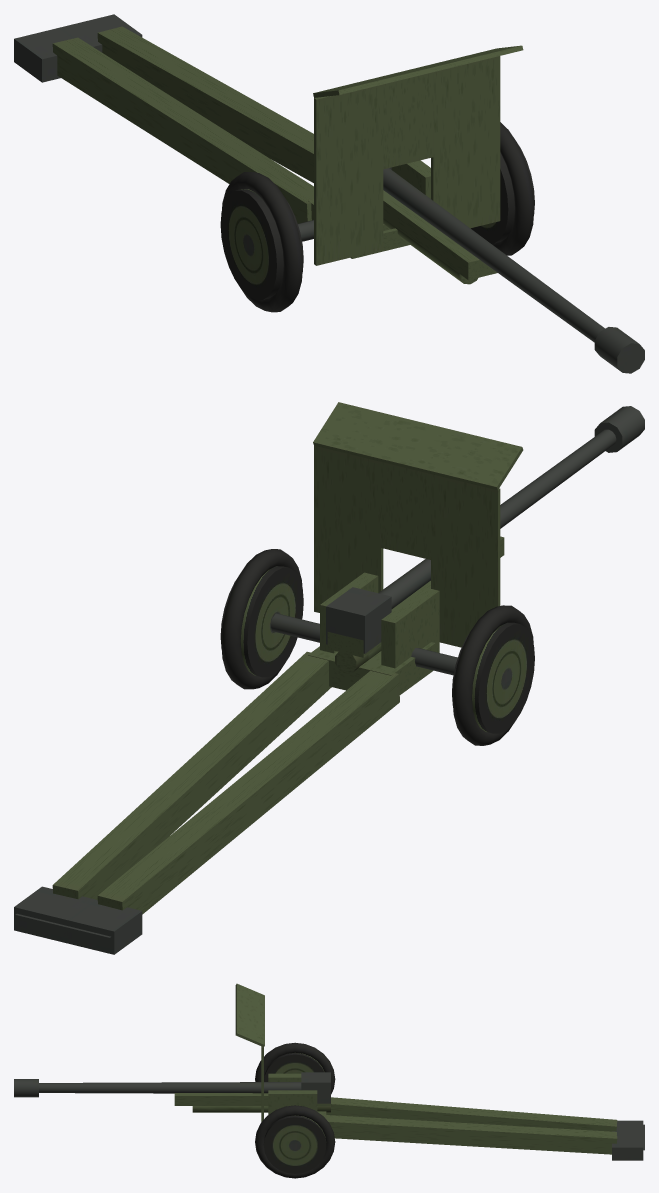
File: artillery.glb
3 views of the same model, one above another, from view 1: azimuth 30°, elevation 25°; view 2: azimuth 150°, elevation 25°; view 3: azimuth 270°, elevation 25° (orthographic). The views are drawn at different scales.
Parts seen in each view (by area): view 1: shield, trail_right, trail_left, barrel, wheels_right, wheels_left, carriage; view 2: shield, trail_right, trail_left, barrel, wheels_right, wheels_left, carriage; view 3: trail_left, barrel, trail_right, wheels_left, wheels_right, shield, carriage.
Boxes of the visible parts, box(x1,y1,x2,y2) form: shield: box(313, 45, 523, 265); trail_right: box(14, 25, 313, 223); trail_left: box(59, 14, 313, 182); barrel: box(383, 167, 644, 373); wheels_right: box(220, 172, 303, 312); wheels_left: box(471, 122, 534, 255); carriage: box(298, 160, 430, 258); shield: box(313, 402, 523, 647); trail_right: box(59, 671, 399, 954); trail_left: box(14, 651, 331, 943); barrel: box(326, 406, 644, 673); wheels_right: box(452, 605, 534, 745); wheels_left: box(220, 549, 303, 689); carriage: box(271, 572, 457, 694); trail_left: box(326, 1115, 644, 1160); barrel: box(14, 1072, 330, 1112); trail_right: box(326, 1097, 644, 1137); wheels_left: box(255, 1105, 335, 1178); wheels_right: box(255, 1042, 335, 1094); shield: box(235, 983, 264, 1121); carriage: box(268, 1073, 326, 1118).
Size of the model in its own units: 1.85 by 1.72 by 7.07.
3 materials, 3 textured.
